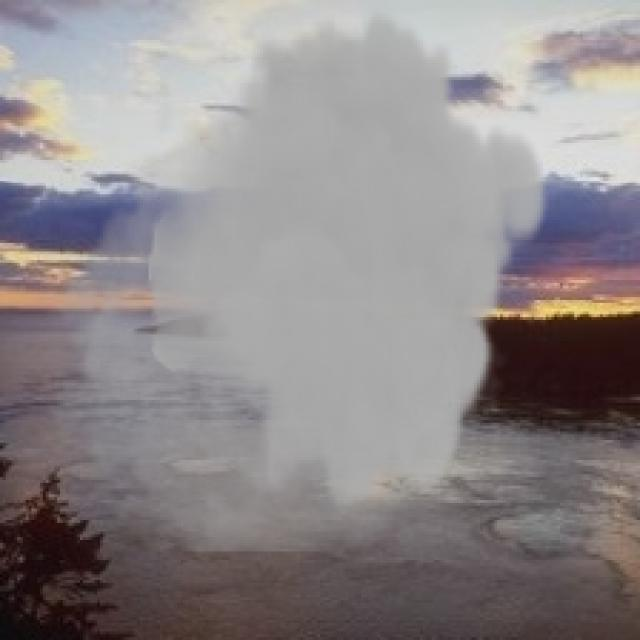smoke: (37, 6, 552, 551)
